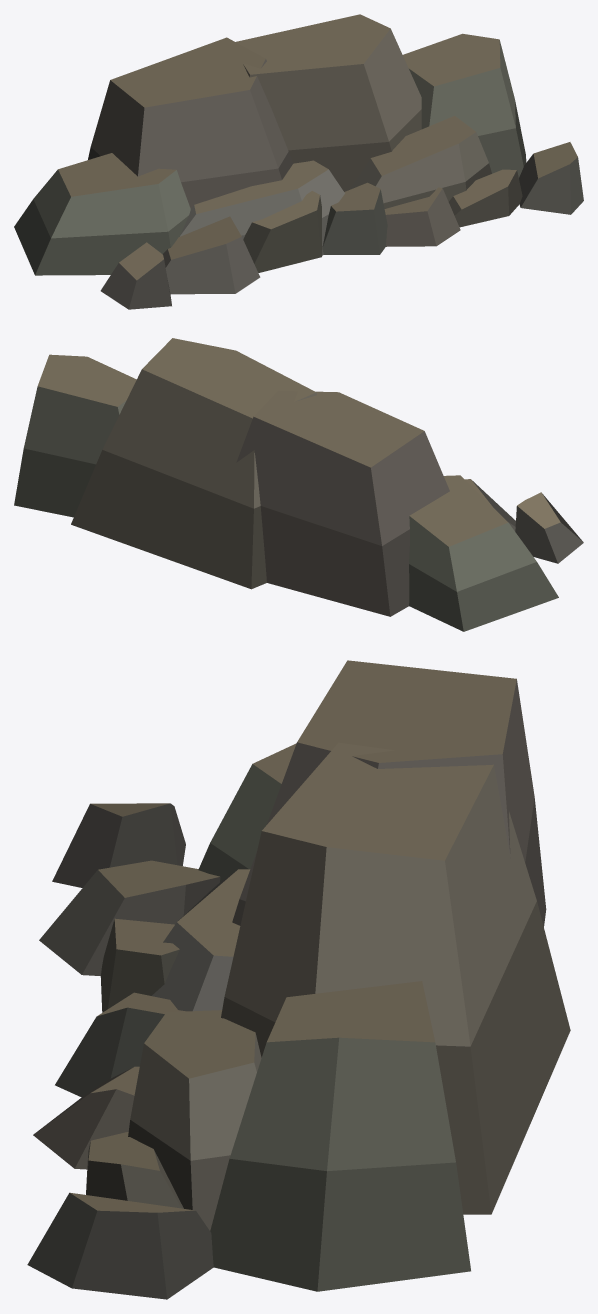
File: weathered-shelf-lite.glb
3 views of the same model, one above another, from view 1: azimuth 30°, elevation 25°; view 2: azimuth 150°, elevation 25°; view 3: azimuth 270°, elevation 25° (orthographic). The views are drawn at different scales.
Visible parts, largest first — view 1: weathered-shelf-lite; view 2: weathered-shelf-lite; view 3: weathered-shelf-lite.
Part boxes in pixels (box(x1,y1,x2,y2)): weathered-shelf-lite: box(14, 14, 583, 309); weathered-shelf-lite: box(14, 338, 583, 631); weathered-shelf-lite: box(27, 660, 570, 1299).
Bounding box in the file's own units: 23.28 × 7.01 × 10.96.
